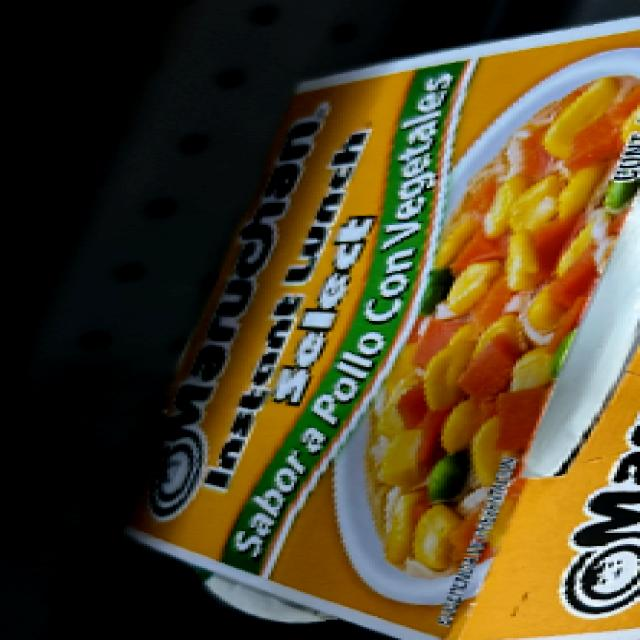maruchanPollo: (216, 81, 640, 609)
